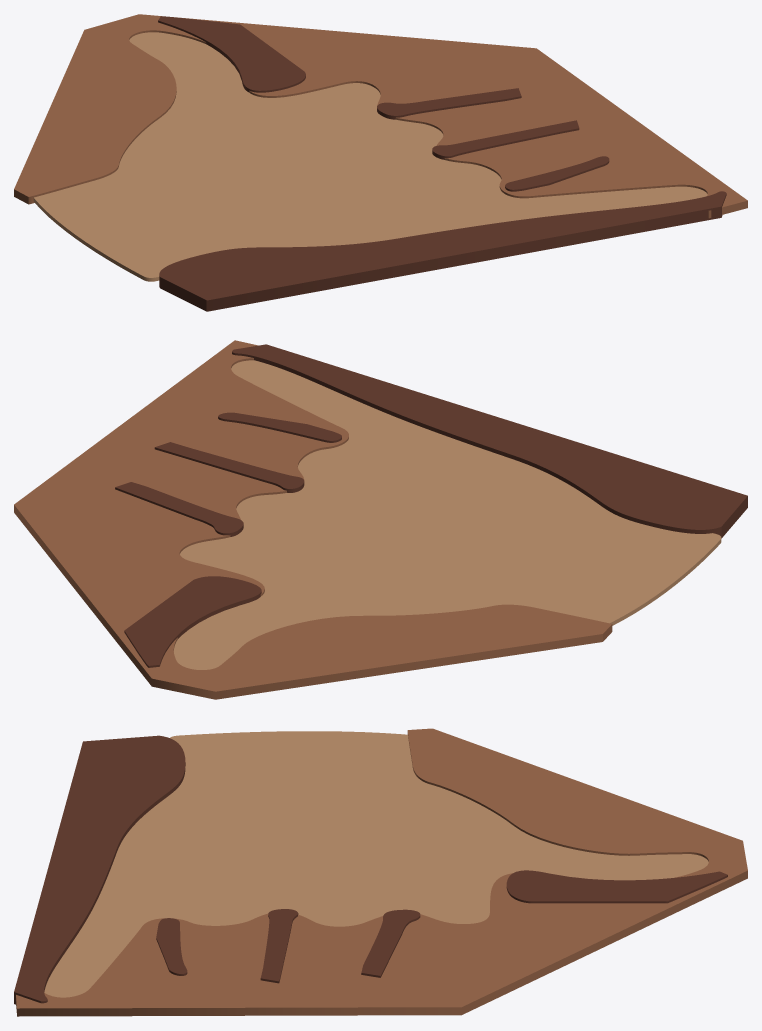
Rendered from emoji_u1f919_1f3fd.glb.
3 views of the same model, one above another, from view 1: azimuth 30°, elevation 25°; view 2: azimuth 150°, elevation 25°; view 3: azimuth 270°, elevation 25° (orthographic). The views are drawn at different scales.
Visible parts, largest first — view 1: emoji_u1f919_1f3fd; view 2: emoji_u1f919_1f3fd; view 3: emoji_u1f919_1f3fd.
Boxes of the visible parts, x1=… form: emoji_u1f919_1f3fd: x1=14, y1=14, x2=747, y2=311; emoji_u1f919_1f3fd: x1=14, y1=340, x2=747, y2=699; emoji_u1f919_1f3fd: x1=14, y1=728, x2=747, y2=1016.
Bounding box in the file's own units: 0.03 × 0.0006 × 0.0333.
